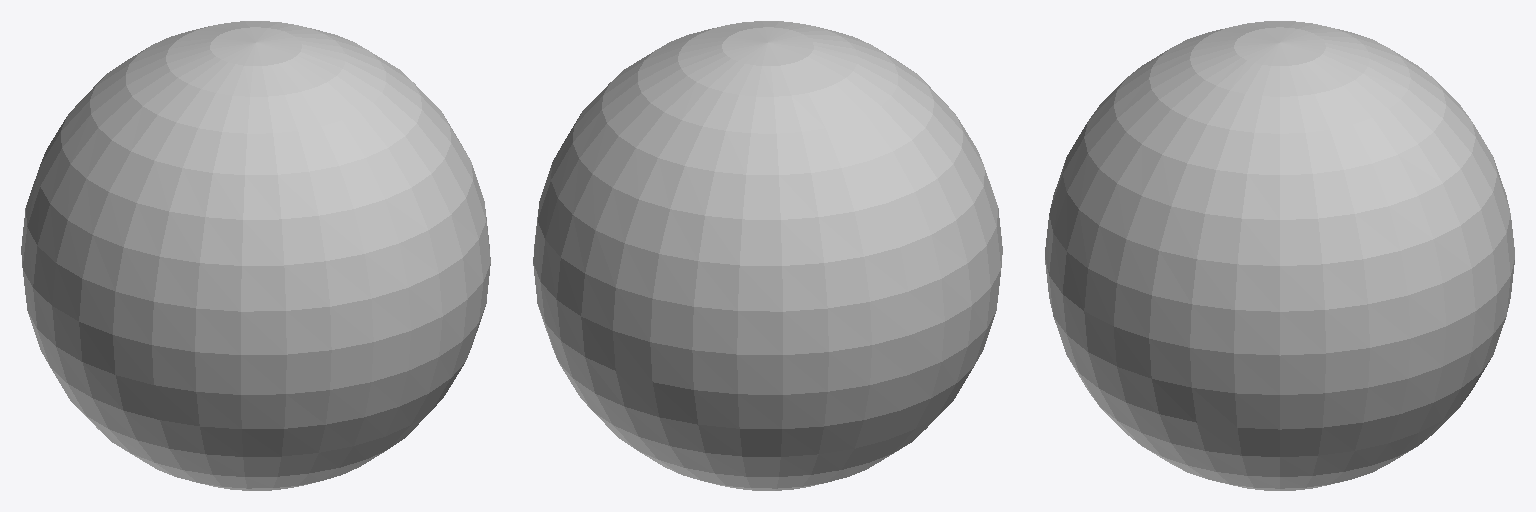
File: ghost.obj
The picture shows the model from 3 angles: view 1: azimuth 30°, elevation 25°; view 2: azimuth 150°, elevation 25°; view 3: azimuth 270°, elevation 25°; orthographic projection.
Parts seen in each view (by area): view 1: Sphere001; view 2: Sphere001; view 3: Sphere001.
Boxes of the visible parts, <box> form: Sphere001: <box>21,21,490,490</box>; Sphere001: <box>533,21,1002,490</box>; Sphere001: <box>1045,21,1514,490</box>.
Size of the model in its own units: 15.16 by 15.16 by 15.16.